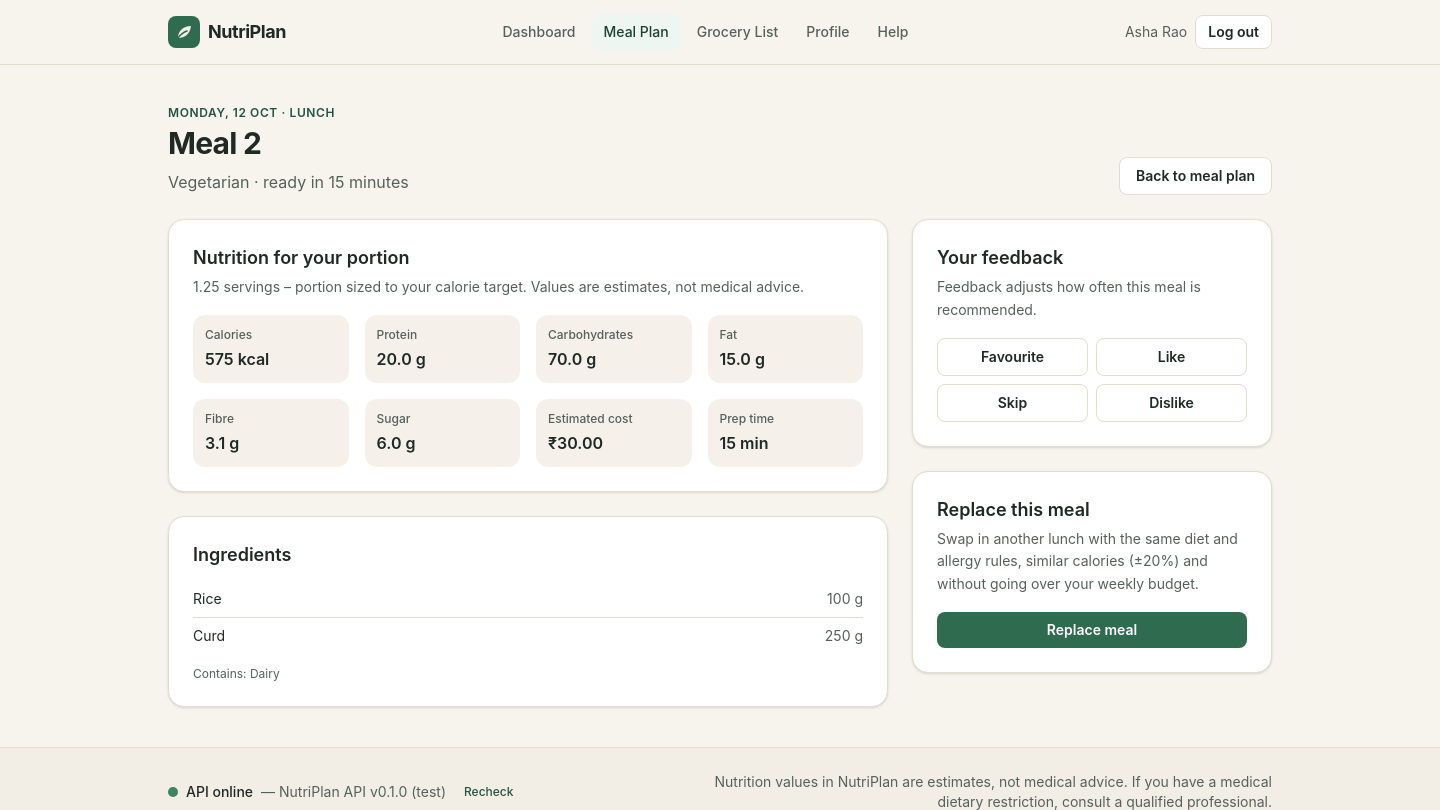
Meal details (feedback & replacement) › sends feedback (REQ-4.4.1)
Expected: the text "Curd" is shown, [193,626,225,646]
Click the button "Like". click: {"x": 1172, "y": 356}
box: [1096,338,1247,376]
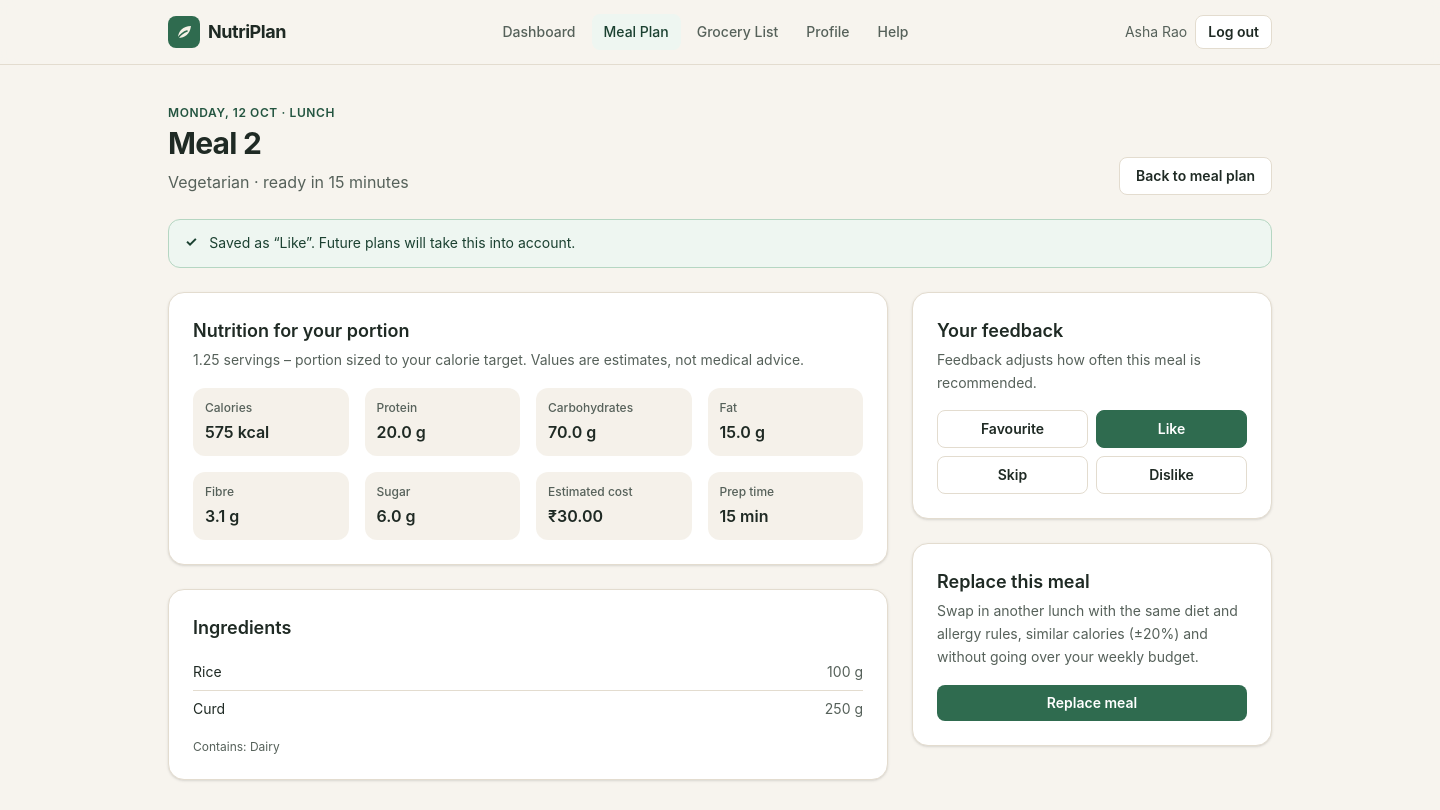
Result: the text "Saved as “Like”. Future plans will take this into account." is shown at [209,232,575,255]
